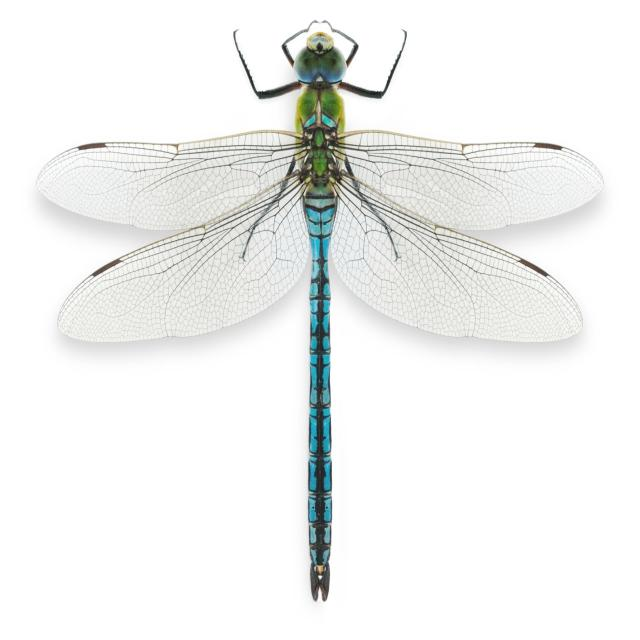dragonfly: (38, 21, 603, 598)
